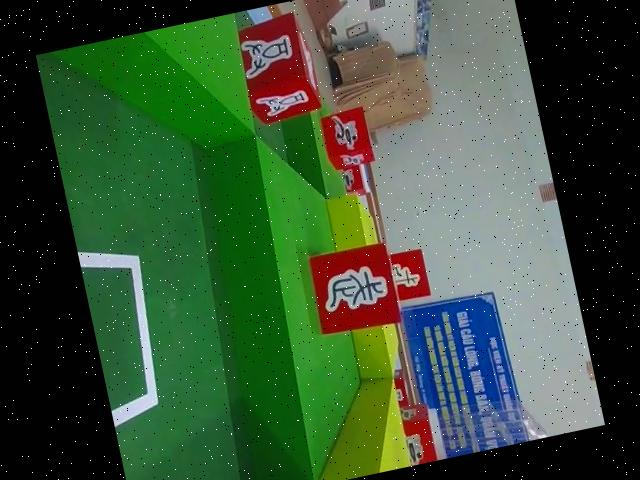R1: (316, 105, 379, 174)
R2 Fake: (303, 239, 404, 340)
R2 Real: (230, 6, 328, 128), (382, 243, 434, 304)
